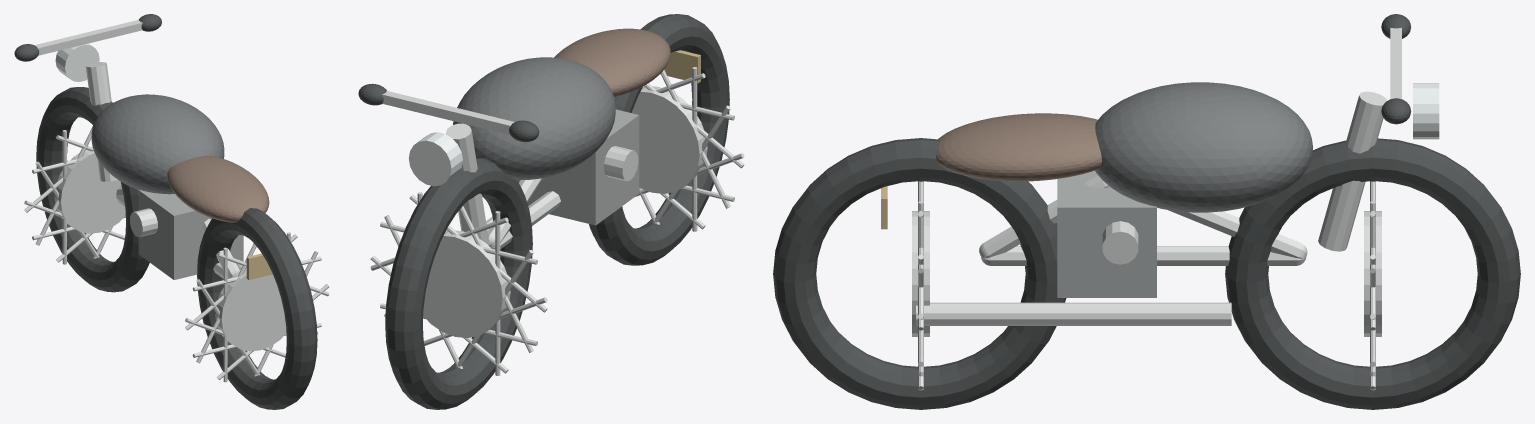
The model's file is motorcycle.glb.
3 renders of one model, left to right at view 1: azimuth 30°, elevation 25°; view 2: azimuth 150°, elevation 25°; view 3: azimuth 270°, elevation 25°, orthographic. The views are drawn at different scales.
Visible parts, largest first — view 1: tire1, tank, tire0, seat, engineBlock, hub1, hub0, handlebar, headlamp, fork, cylinder-0.12, oldPlate (+9 smaller); view 2: tire0, tank, tire1, hub0, hub1, engineBlock, seat, headlamp, handlebar, fork, cylinder-0.12, oldPlate (+17 smaller); view 3: tire0, tire1, tank, engineBlock, seat, exhaust, fork, frameC, headlamp, hub0, frameA, hub1 (+3 smaller).
Part boxes in pixels (x1,y1,x2,y2): tire1: [197, 208, 317, 409]; tank: [91, 94, 224, 194]; tire0: [36, 87, 149, 292]; seat: [167, 155, 269, 222]; engineBlock: [138, 190, 243, 279]; hub1: [215, 268, 286, 351]; hub0: [54, 147, 125, 233]; handlebar: [34, 19, 142, 55]; headlamp: [55, 43, 99, 81]; fork: [86, 62, 117, 181]; cylinder-0.12: [130, 208, 157, 237]; oldPlate: [246, 253, 272, 279]; tire0: [385, 158, 532, 409]; tank: [453, 57, 615, 180]; tire1: [589, 14, 729, 265]; hub0: [423, 230, 510, 338]; hub1: [631, 86, 707, 193]; engineBlock: [517, 109, 639, 225]; seat: [554, 28, 670, 97]; headlamp: [408, 132, 462, 186]; handlebar: [382, 91, 514, 134]; fork: [446, 123, 489, 245]; cylinder-0.12: [604, 146, 638, 181]; oldPlate: [660, 50, 700, 83]; tire0: [1225, 138, 1520, 409]; tire1: [773, 138, 1066, 409]; tank: [1095, 82, 1312, 212]; engineBlock: [1057, 170, 1156, 297]; seat: [935, 113, 1101, 181]; exhaust: [916, 302, 1231, 325]; fork: [1318, 91, 1387, 251]; frameC: [981, 246, 1306, 265]; headlamp: [1413, 83, 1439, 139]; hub0: [1364, 211, 1381, 336]; frameA: [1168, 210, 1307, 258]; hub1: [912, 211, 929, 336].
Bounding box in the file's own units: 0.71 × 1.16 × 2.25.
